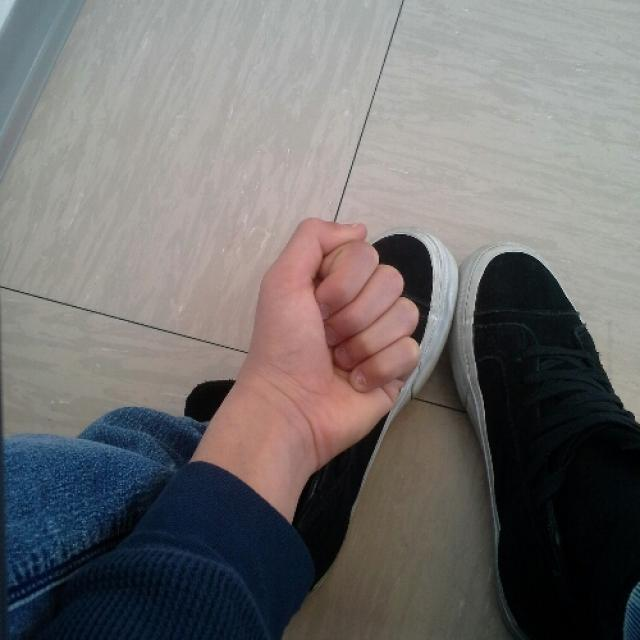rock: (246, 218, 421, 440)
